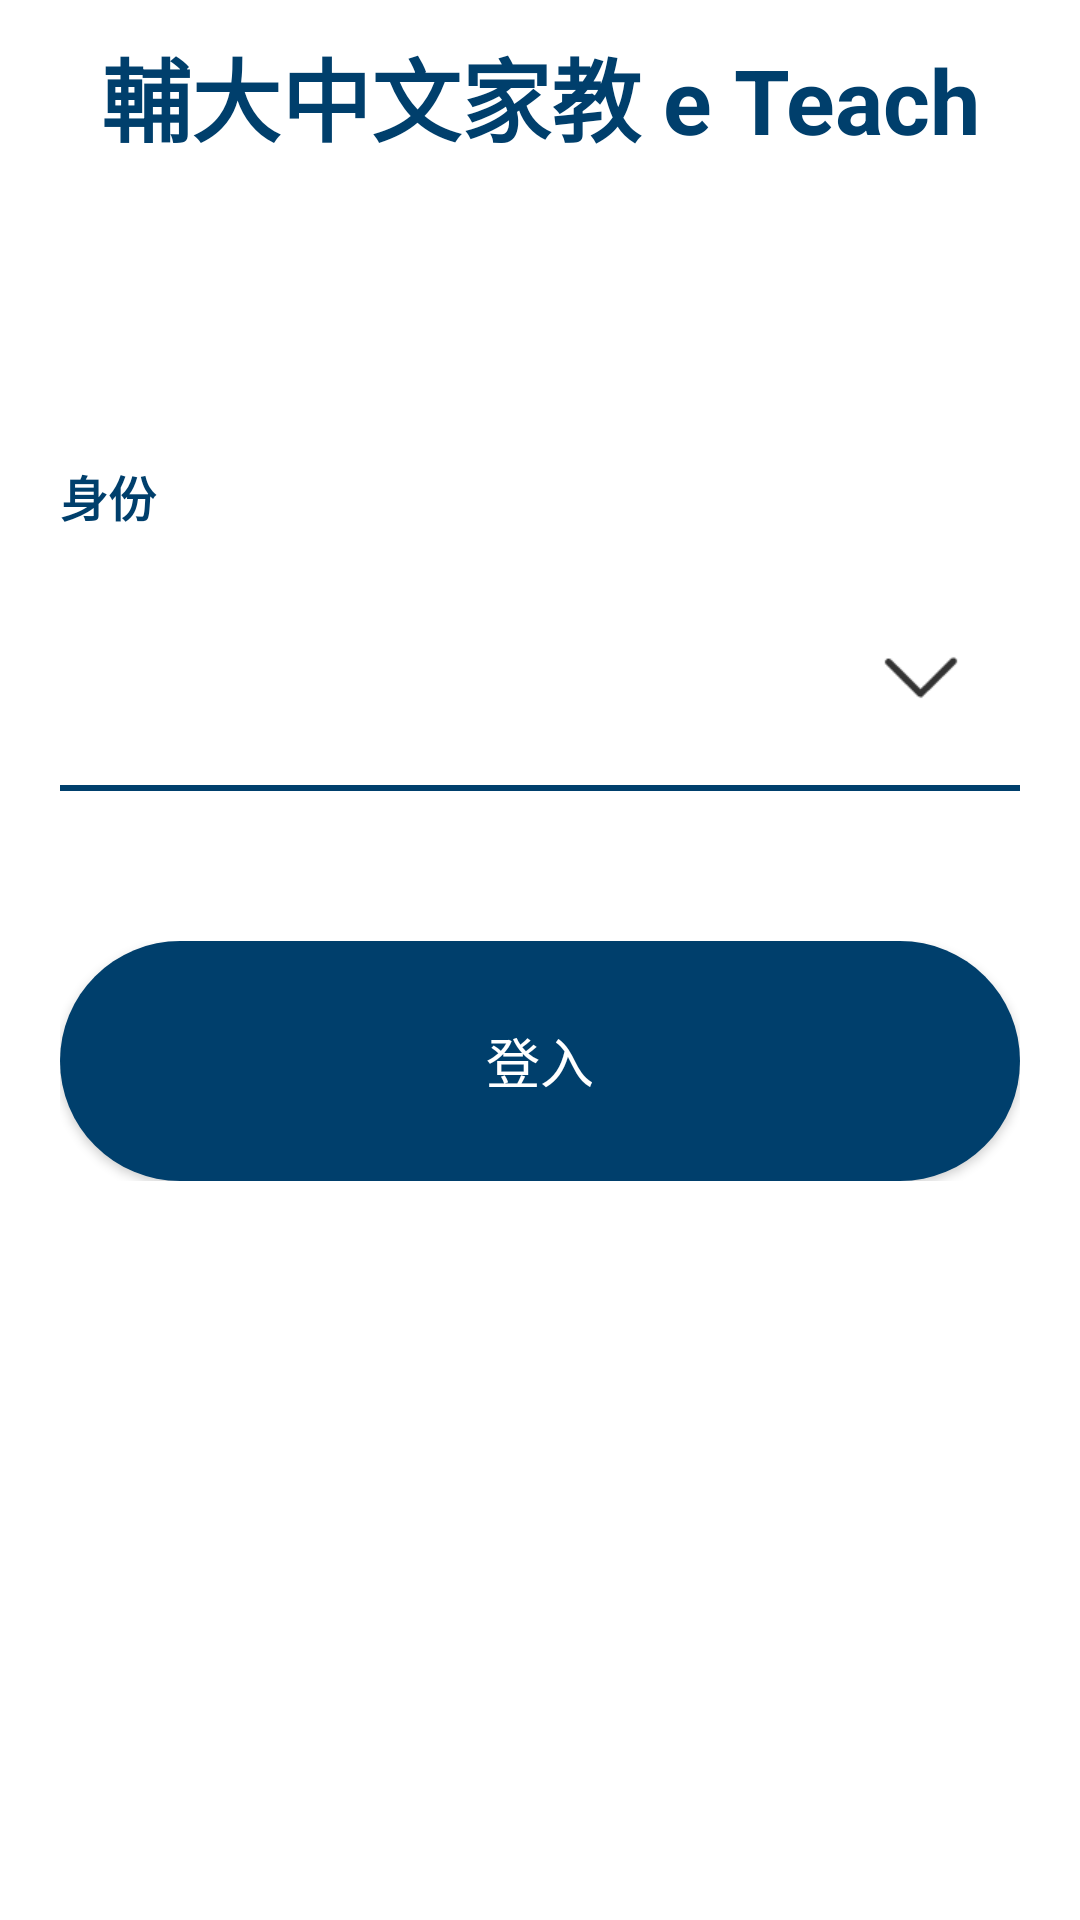

Screen size 1080 x 1920. Icon name, then its box in pixels as {"left": x1, "top": y1, "right": x2, "bottom": y2}:
ap arrowm: {"left": 884, "top": 657, "right": 958, "bottom": 698}
